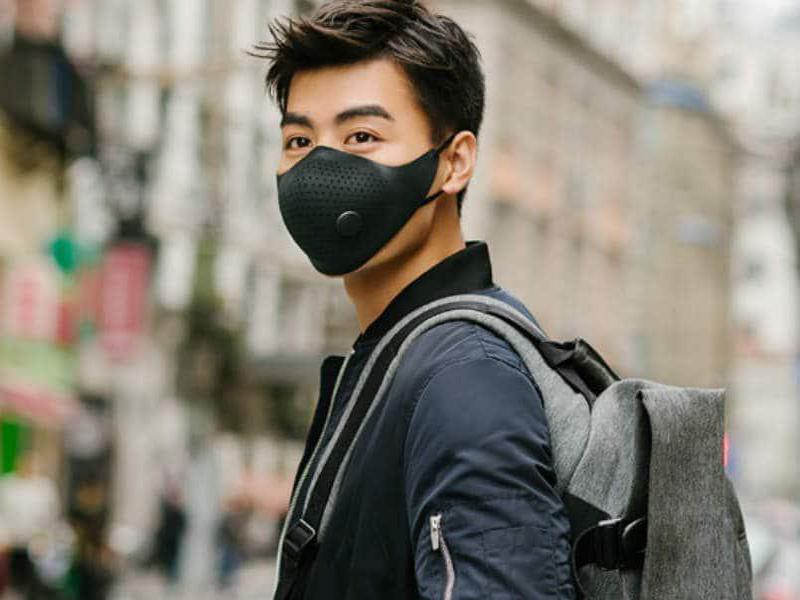with_mask: (264, 3, 490, 280)
